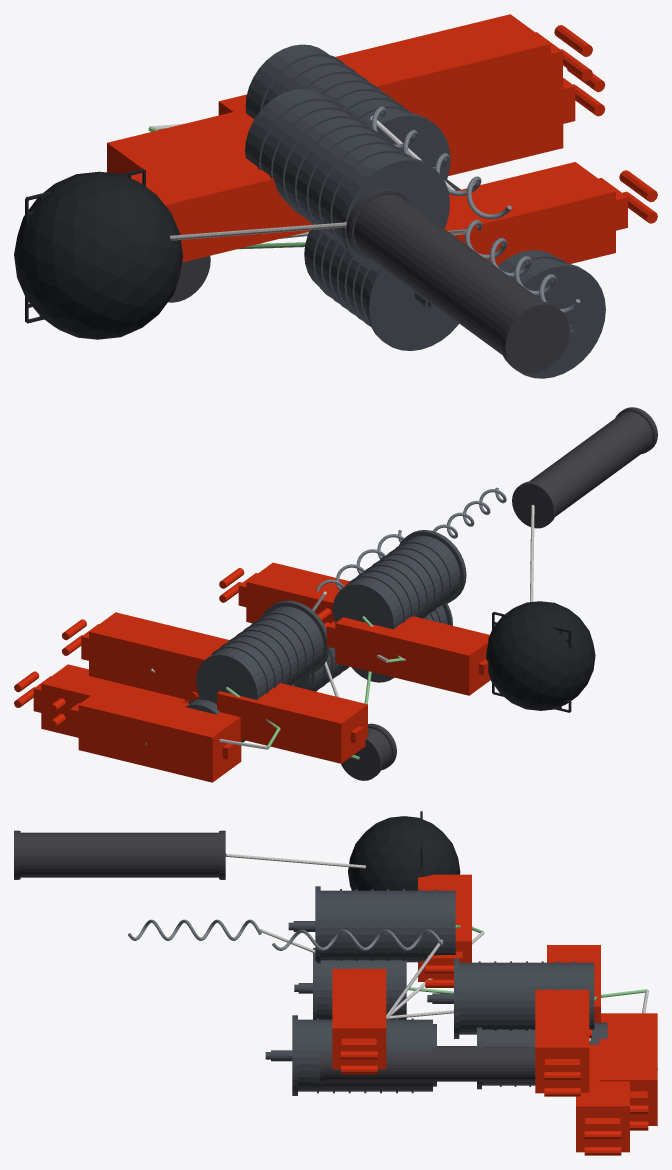
The model's file is gen89.glb.
3 renders of one model, top to bottom at view 1: azimuth 30°, elevation 25°; view 2: azimuth 150°, elevation 25°; view 3: azimuth 270°, elevation 25°, orthographic. The views are drawn at different scales.
Parts seen in each view (by area): view 1: sprint_foot_b6c6f15d, high_power_lipo_a9765c09, carbon_tube_f043efa7, brushless_motor_cfae4e60_x_x, high_power_lipo_f67130ef, high_power_lipo_45dd22b1_x_x, brushless_motor_cfae4e60_x_x_x, brushless_motor_fc180daf, high_power_lipo_f67130ef_x, brushless_motor_fc180daf_x, high_power_lipo_45dd22b1_x_x_x, launch_spring_1368a4bd (+3 smaller); view 2: high_power_lipo_c16803da_x, sprint_foot_b6c6f15d, high_power_lipo_45dd22b1_x_x, high_power_lipo_a9765c09, brushless_motor_cfae4e60_x_x_x, brushless_motor_cfae4e60_x_x, high_power_lipo_45dd22b1_x_x_x, carbon_tube_f043efa7, high_power_lipo_f67130ef, high_power_lipo_f67130ef_x, carbon_tube_95e1d348, launch_spring_1368a4bd (+3 smaller); view 3: carbon_tube_f043efa7, brushless_motor_cfae4e60_x_x, brushless_motor_cfae4e60_x_x_x, sprint_foot_b6c6f15d, carbon_tube_3ac4c08c, high_power_lipo_a9765c09, high_power_lipo_f67130ef, brushless_motor_fc180daf_x, high_power_lipo_c16803da_x, high_power_lipo_f67130ef_x, high_power_lipo_45dd22b1_x_x, brushless_motor_fc180daf (+5 smaller).
Boxes of the visible parts, bbox=[...] form: sprint_foot_b6c6f15d: bbox=[14, 168, 182, 339]; high_power_lipo_a9765c09: bbox=[335, 14, 592, 138]; carbon_tube_f043efa7: bbox=[346, 188, 569, 373]; brushless_motor_cfae4e60_x_x: bbox=[245, 89, 449, 271]; high_power_lipo_f67130ef: bbox=[445, 162, 657, 265]; high_power_lipo_45dd22b1_x_x: bbox=[127, 146, 312, 262]; brushless_motor_cfae4e60_x_x_x: bbox=[245, 44, 450, 181]; brushless_motor_fc180daf: bbox=[304, 224, 458, 350]; high_power_lipo_f67130ef_x: bbox=[446, 68, 605, 175]; brushless_motor_fc180daf_x: bbox=[498, 250, 605, 378]; high_power_lipo_45dd22b1_x_x_x: bbox=[107, 109, 253, 173]; launch_spring_1368a4bd: bbox=[465, 220, 580, 313]; high_power_lipo_c16803da_x: bbox=[49, 684, 241, 782]; sprint_foot_b6c6f15d: bbox=[486, 601, 595, 712]; high_power_lipo_45dd22b1_x_x: bbox=[317, 608, 490, 695]; high_power_lipo_a9765c09: bbox=[62, 612, 229, 701]; brushless_motor_cfae4e60_x_x_x: bbox=[196, 600, 329, 704]; brushless_motor_cfae4e60_x_x: bbox=[332, 530, 466, 629]; high_power_lipo_45dd22b1_x_x_x: bbox=[189, 683, 367, 763]; carbon_tube_f043efa7: bbox=[512, 407, 657, 528]; high_power_lipo_f67130ef: bbox=[219, 562, 349, 623]; high_power_lipo_f67130ef_x: bbox=[14, 664, 188, 737]; carbon_tube_95e1d348: bbox=[341, 723, 396, 780]; launch_spring_1368a4bd: bbox=[433, 487, 506, 538]; carbon_tube_f043efa7: bbox=[14, 830, 225, 879]; brushless_motor_cfae4e60_x_x: bbox=[288, 886, 455, 963]; brushless_motor_cfae4e60_x_x_x: bbox=[427, 958, 594, 1038]; sprint_foot_b6c6f15d: bbox=[348, 811, 460, 890]; carbon_tube_3ac4c08c: bbox=[320, 1046, 535, 1082]; high_power_lipo_a9765c09: bbox=[535, 989, 589, 1096]; high_power_lipo_f67130ef: bbox=[332, 968, 386, 1074]; brushless_motor_fc180daf_x: bbox=[265, 1015, 432, 1095]; high_power_lipo_c16803da_x: bbox=[599, 1013, 657, 1130]; high_power_lipo_f67130ef_x: bbox=[576, 1044, 629, 1155]; high_power_lipo_45dd22b1_x_x: bbox=[418, 874, 471, 987]; brushless_motor_fc180daf: bbox=[294, 948, 406, 1019].
Size of the model in its own units: 0.4883 by 0.1828 by 0.5725.
